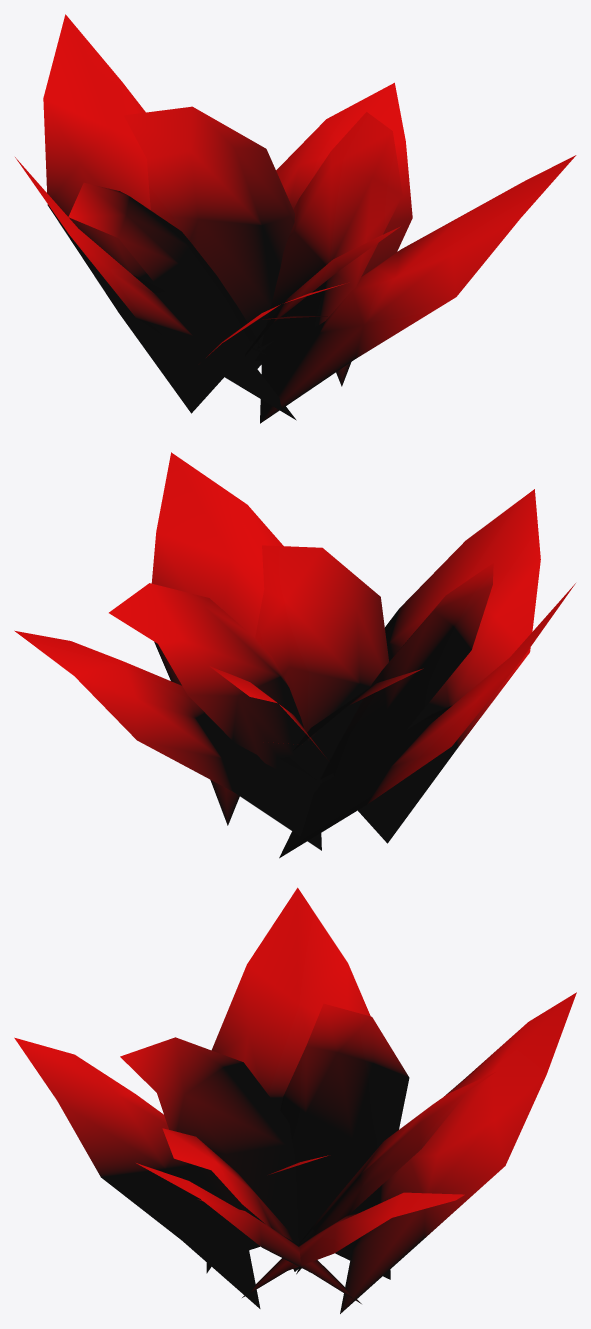
The model's file is SM_Arugula_B.glb.
The picture shows the model from 3 angles, top to bottom: view 1: azimuth 30°, elevation 25°; view 2: azimuth 150°, elevation 25°; view 3: azimuth 270°, elevation 25°; orthographic projection. The views are drawn at different scales.
Parts seen in each view (by area): view 1: SM_Arugula_B; view 2: SM_Arugula_B; view 3: SM_Arugula_B.
Part boxes in pixels (box(x1,y1,x2,y2)): SM_Arugula_B: box(15, 14, 576, 423); SM_Arugula_B: box(14, 452, 575, 858); SM_Arugula_B: box(14, 887, 576, 1313).
Bounding box in the file's own units: 0.6187 × 0.3607 × 0.6575.
